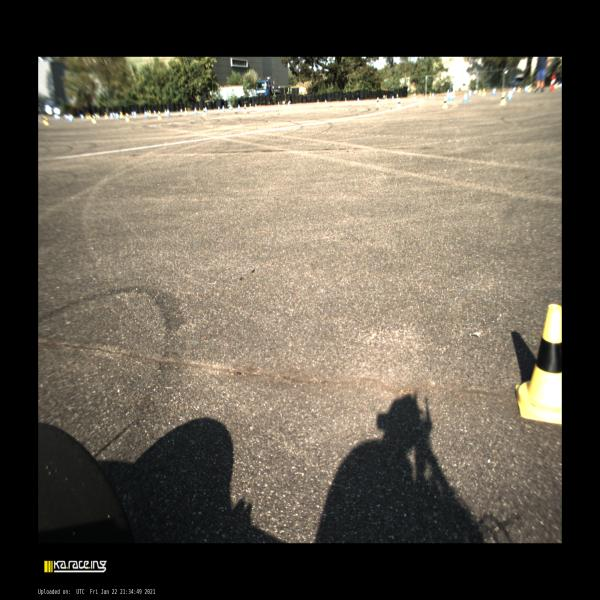yellow_cone: (514, 304, 562, 424)
